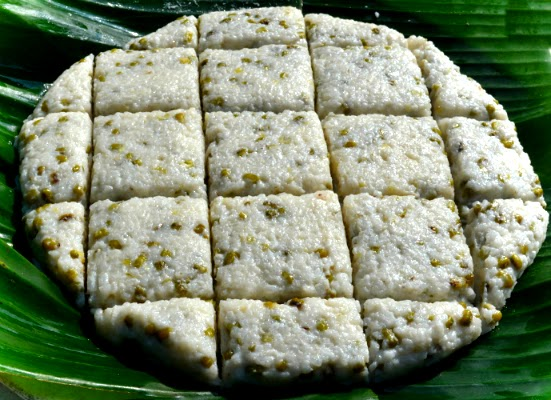kiribath: (19, 9, 547, 386)
